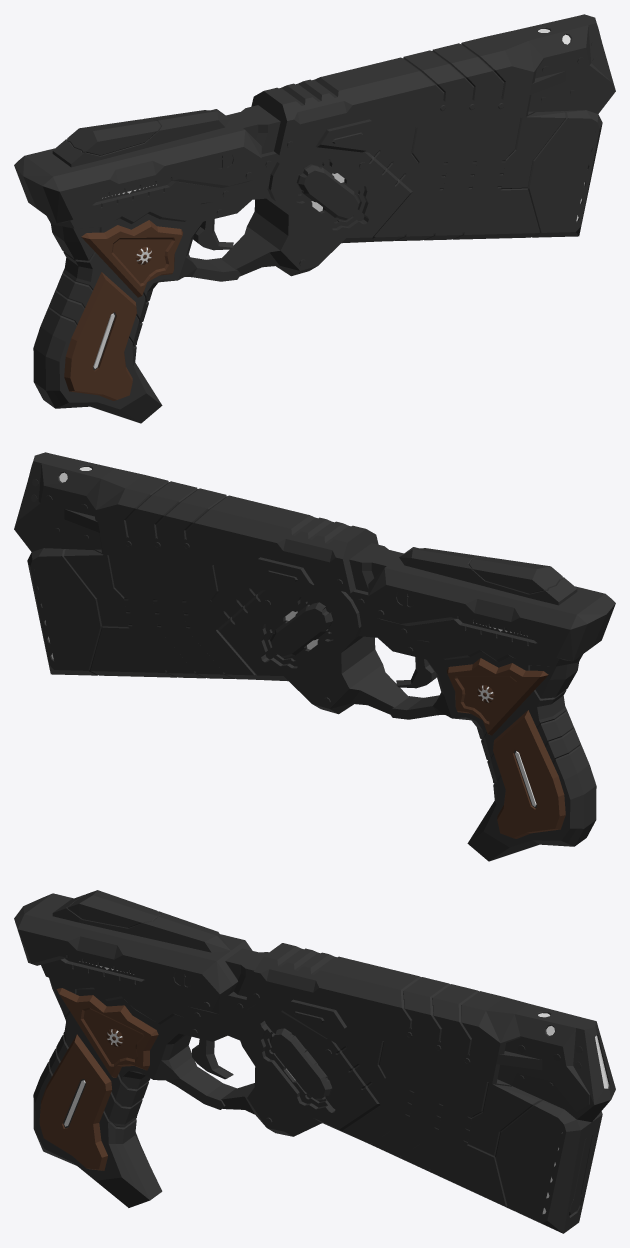
File: Dominant.fbx
3 renders of one model, top to bottom at view 1: azimuth 30°, elevation 25°; view 2: azimuth 150°, elevation 25°; view 3: azimuth 330°, elevation 25°, orthographic.
Parts seen in each view (by area): view 1: Куб.009, Куб.001, Куб.003, Куб, Куб.002, Куб.010, Куб.004, Куб.011, Куб.012, Куб.019, Циліндр; view 2: Куб.004, Куб.001, Куб.008, Куб, Куб.002, Куб.010, Куб.009, Куб.005, Куб.006, Куб.007, Циліндр; view 3: Куб.009, Куб.001, Куб.003, Куб, Куб.002, Куб.010, Куб.004, Куб.012, Куб.019, Куб.011, Циліндр, Куб.008 (+1 smaller).
Part boxes in pixels (bbox=[...]): Куб.009: bbox=[269, 17, 615, 155]; Куб.001: bbox=[33, 105, 382, 423]; Куб.003: bbox=[364, 110, 602, 241]; Куб: bbox=[14, 109, 261, 223]; Куб.002: bbox=[221, 146, 412, 276]; Куб.010: bbox=[64, 220, 182, 400]; Куб.004: bbox=[251, 14, 594, 112]; Куб.011: bbox=[387, 100, 448, 234]; Куб.012: bbox=[417, 99, 477, 233]; Куб.019: bbox=[446, 98, 506, 232]; Циліндр: bbox=[193, 209, 233, 250]; Куб.004: bbox=[14, 455, 360, 593]; Куб.001: bbox=[247, 543, 596, 861]; Куб.008: bbox=[27, 548, 265, 679]; Куб: bbox=[368, 547, 615, 661]; Куб.002: bbox=[217, 584, 408, 714]; Куб.010: bbox=[447, 658, 565, 838]; Куб.009: bbox=[35, 452, 378, 550]; Куб.005: bbox=[181, 538, 242, 672]; Куб.006: bbox=[152, 537, 212, 671]; Куб.007: bbox=[123, 536, 183, 670]; Циліндр: bbox=[396, 647, 436, 688]; Куб.009: bbox=[246, 949, 611, 1122]; Куб.001: bbox=[33, 948, 346, 1207]; Куб.003: bbox=[328, 1027, 591, 1233]; Куб: bbox=[14, 890, 252, 1014]; Куб.002: bbox=[221, 1004, 380, 1142]; Куб.010: bbox=[39, 988, 158, 1170]; Куб.004: bbox=[273, 943, 615, 1098]; Куб.012: bbox=[384, 1041, 444, 1156]; Куб.019: bbox=[413, 1054, 473, 1169]; Куб.011: bbox=[355, 1028, 415, 1143]; Циліндр: bbox=[191, 1029, 233, 1079]; Куб.008: bbox=[571, 1111, 602, 1227].
Size of the model in its own units: 389 by 189 by 49.99.
